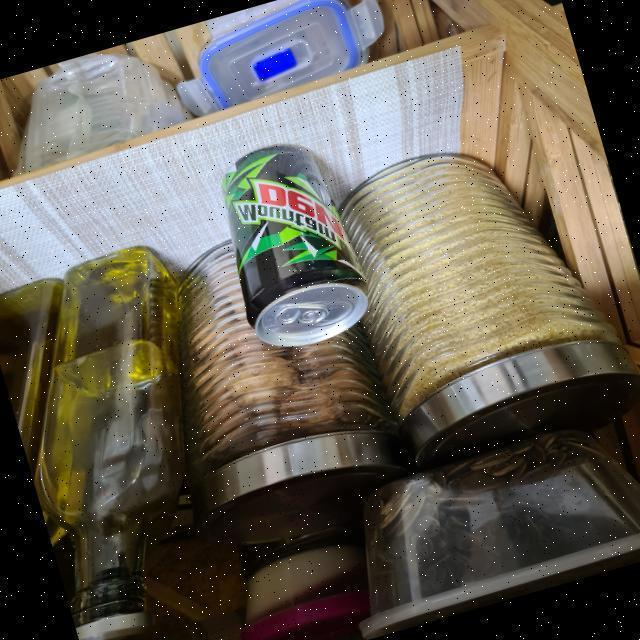Kaleng: (220, 143, 370, 347)
